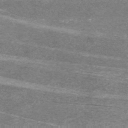finishing roll printing: (0, 76, 128, 100), (0, 14, 116, 39), (16, 41, 126, 61), (0, 111, 61, 128), (0, 54, 56, 66)
